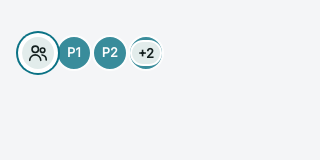
Test: AvatarFilter › several people can be picked, and Everyone clears them
Later steps or results of the test are not shown.
Click the button named "Person 2".
click(110, 53)  # box [92,31,128,75]
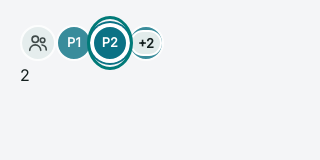
Click the button named "Person 1".
click(74, 43)  # box [56,21,92,65]
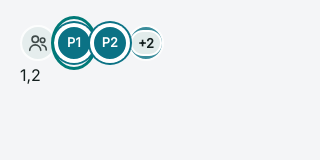
Now the text with test id "picked" reads "1,2", box [20,65,41,85]
